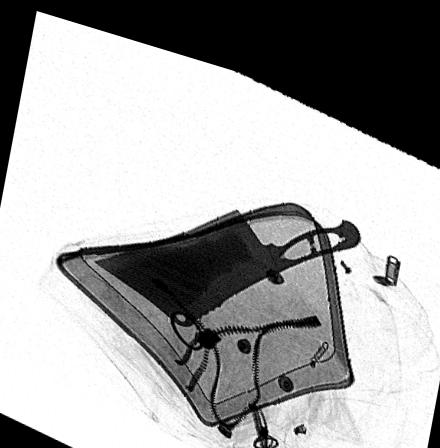Knife: (92, 194, 361, 317)
